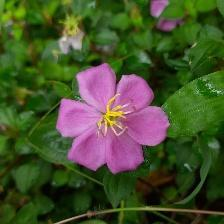malabar melastome: (56, 62, 173, 177)
